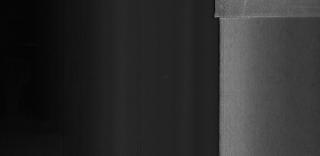welding line: (215, 13, 318, 21)
